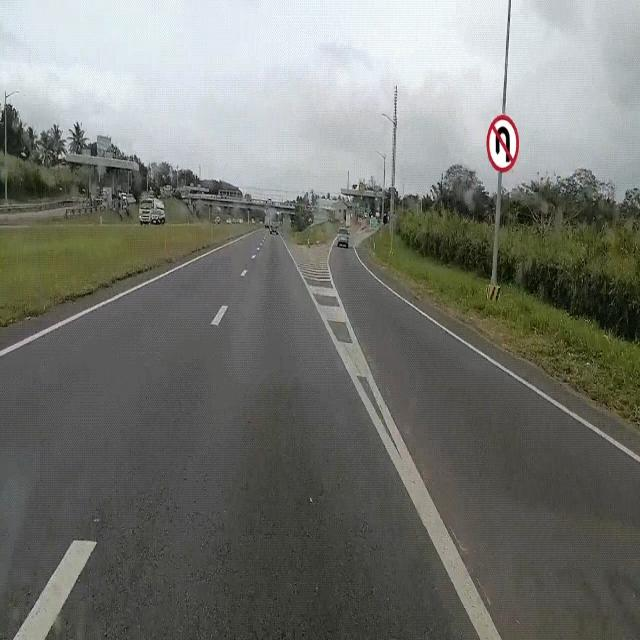Demi-Tour-Interdit: (485, 110, 521, 183)
